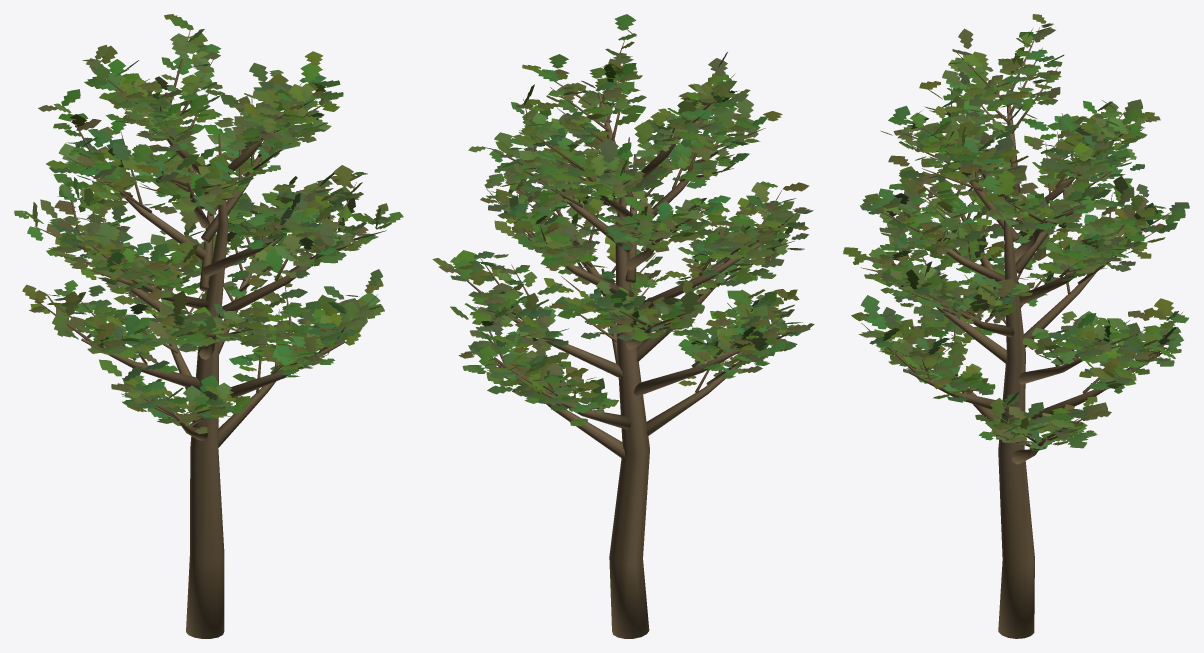
Rendered from oak_b.glb.
3 views of the same model, side by side, from view 1: azimuth 30°, elevation 25°; view 2: azimuth 150°, elevation 25°; view 3: azimuth 270°, elevation 25° (orthographic). The views are drawn at different scales.
Visible parts, largest first — view 1: CrownLeaves, Branches; view 2: CrownLeaves, Branches; view 3: CrownLeaves, Branches.
Boxes of the visible parts, box(x1,y1,x2,y2) form: CrownLeaves: box(14, 14, 403, 434); Branches: box(34, 30, 386, 638); CrownLeaves: box(432, 14, 814, 426); Branches: box(458, 40, 801, 638); CrownLeaves: box(843, 14, 1189, 451); Branches: box(861, 27, 1182, 638).
Bounding box in the file's own units: 0.6092 × 1.02 × 0.564.
